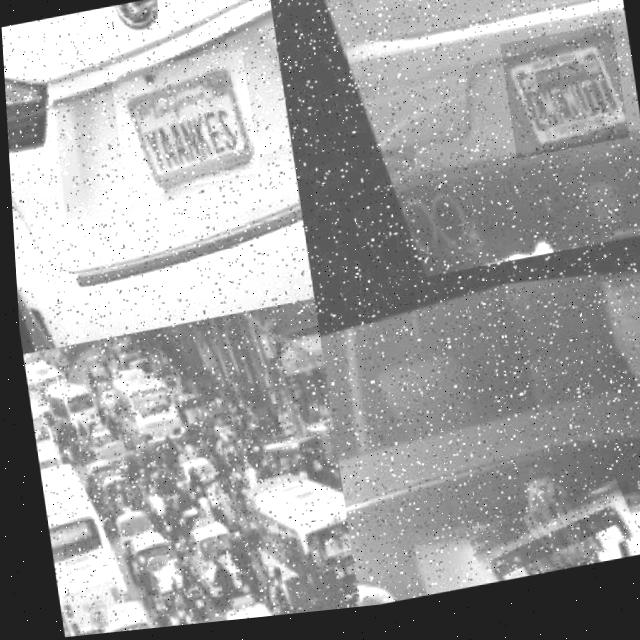LicensePlate: (108, 52, 258, 201), (459, 493, 631, 596), (498, 35, 626, 170), (139, 556, 165, 592), (334, 581, 352, 611), (80, 605, 101, 630), (195, 474, 207, 492), (214, 420, 227, 435), (208, 552, 219, 565), (110, 454, 120, 467), (45, 554, 53, 568), (182, 402, 191, 413), (45, 551, 51, 564)
